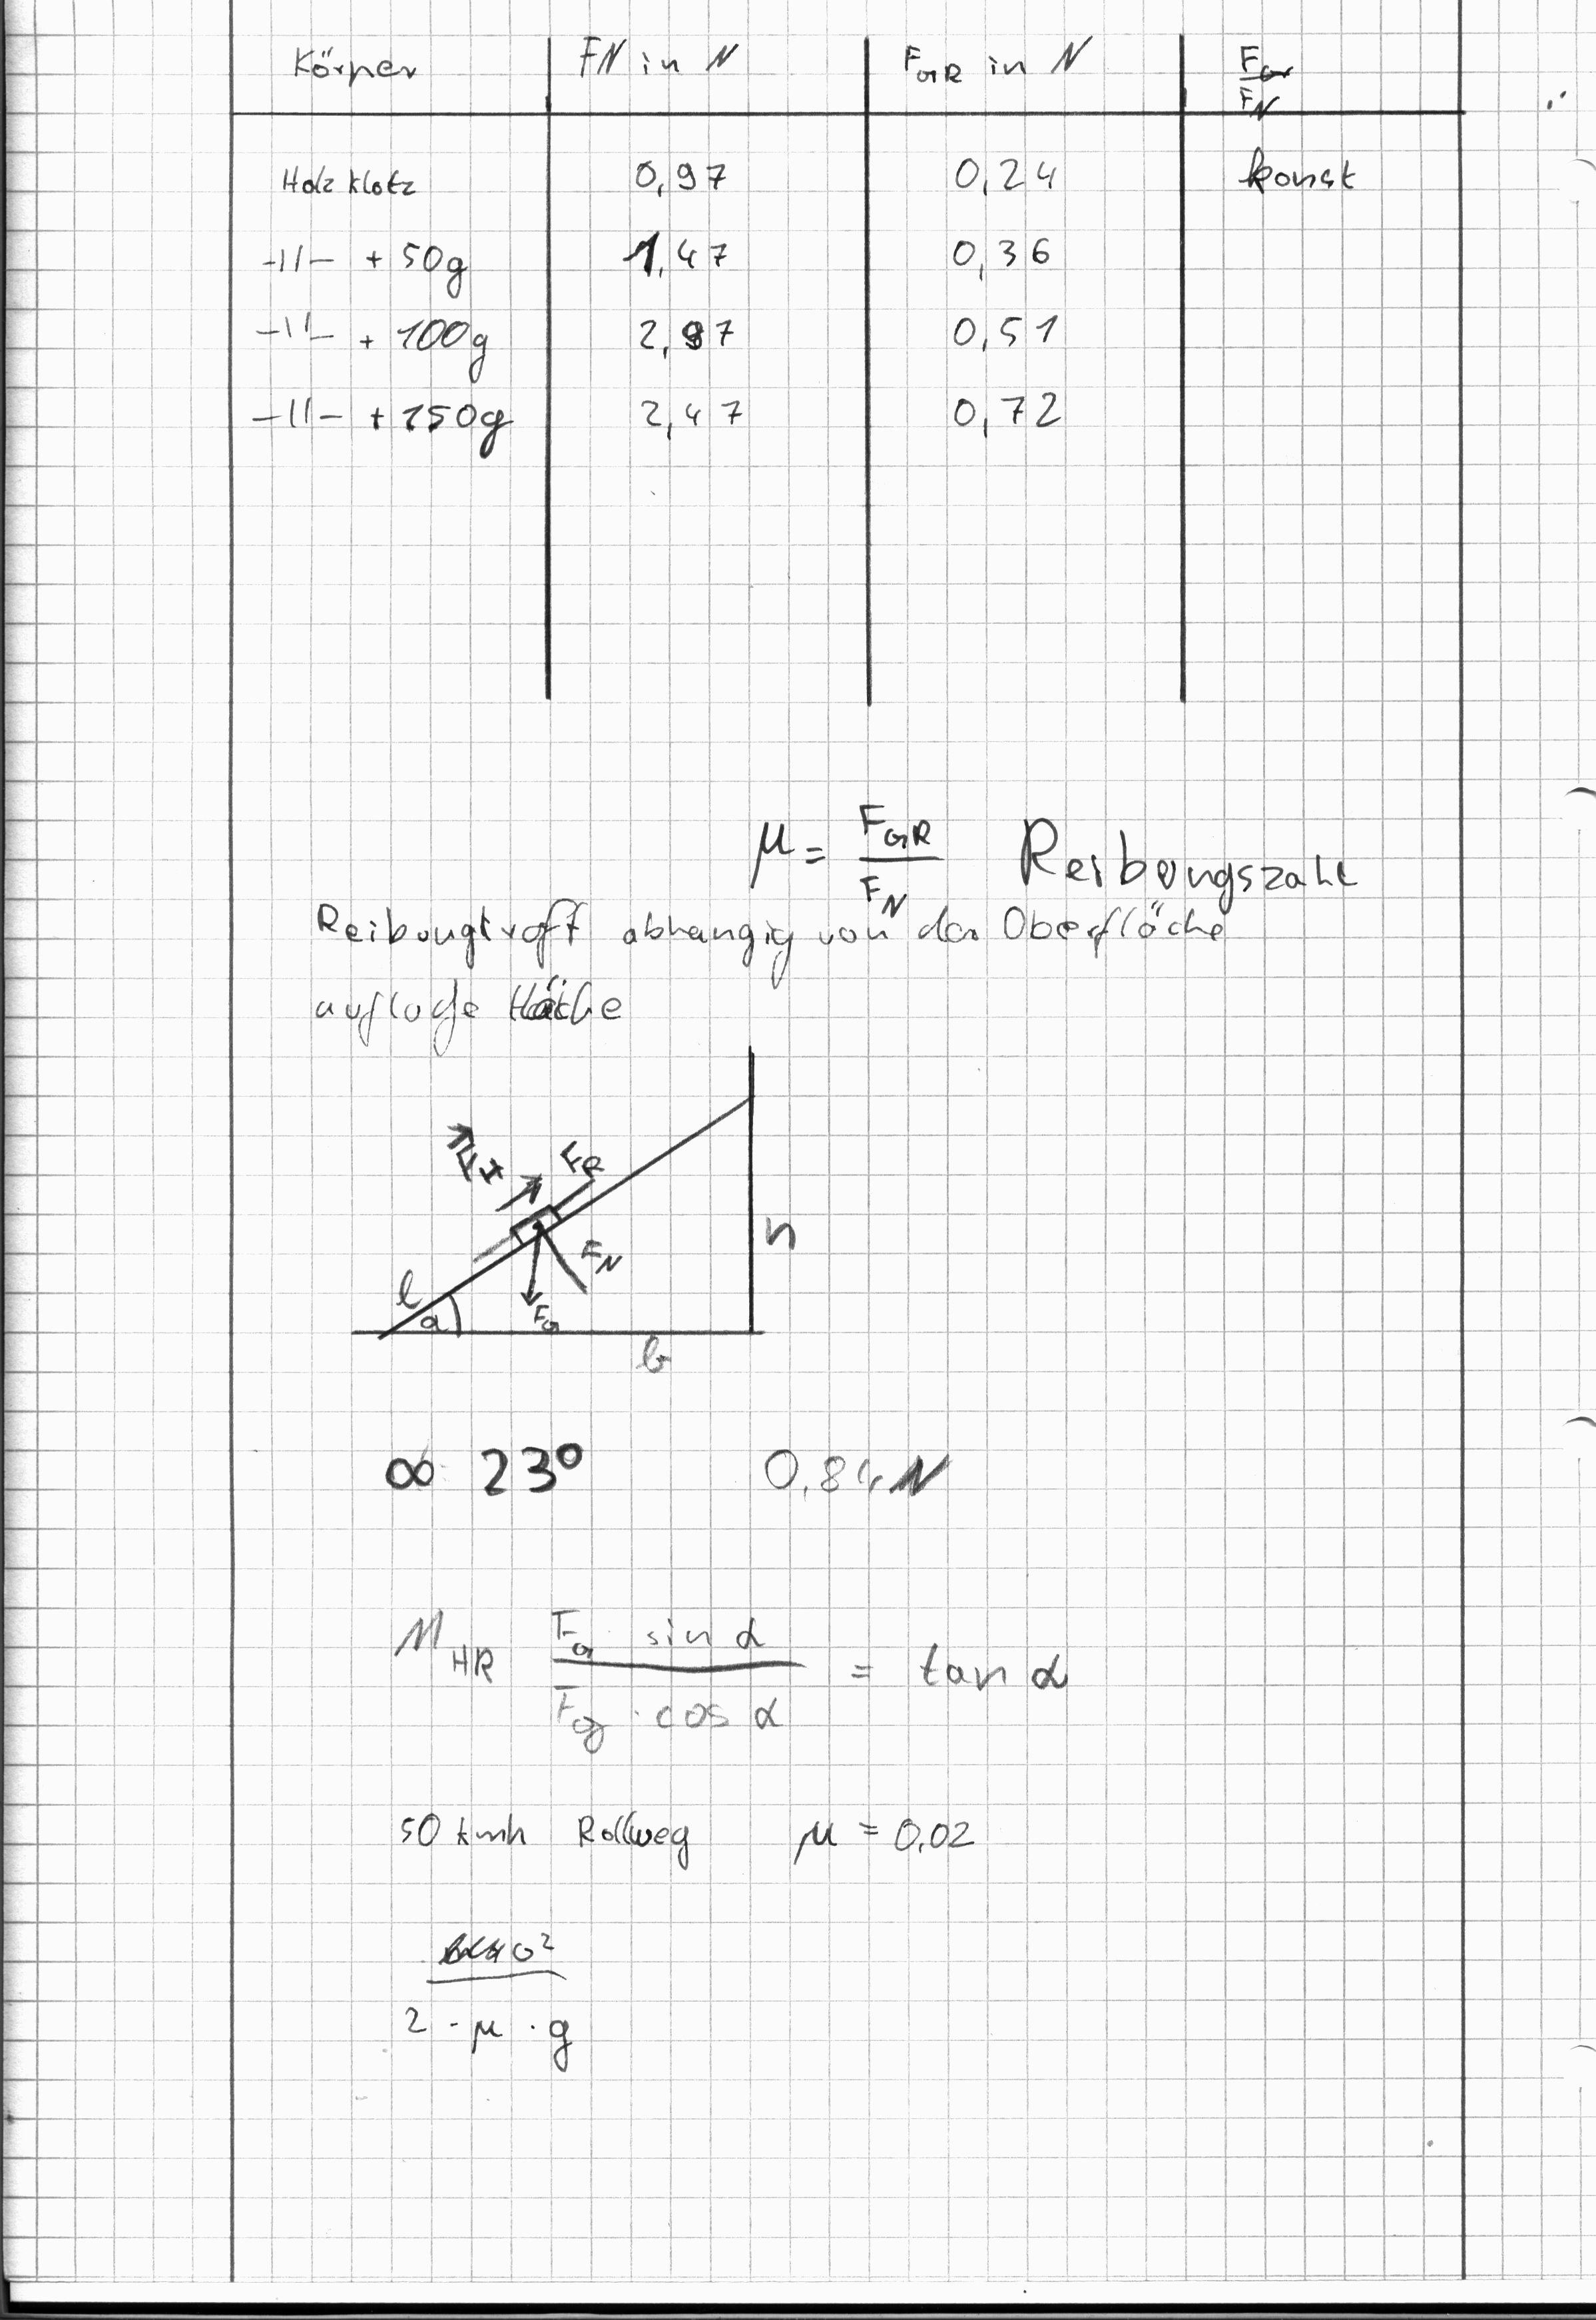word: (291, 886, 1230, 1056), (380, 1584, 1084, 1771), (238, 148, 529, 477), (738, 791, 1358, 928), (360, 1775, 999, 1888), (386, 1908, 595, 2086), (882, 11, 1122, 114), (617, 298, 774, 447), (557, 7, 767, 114), (932, 143, 1079, 296), (939, 301, 1087, 443), (617, 146, 752, 284), (278, 15, 439, 119), (1209, 19, 1312, 143)
